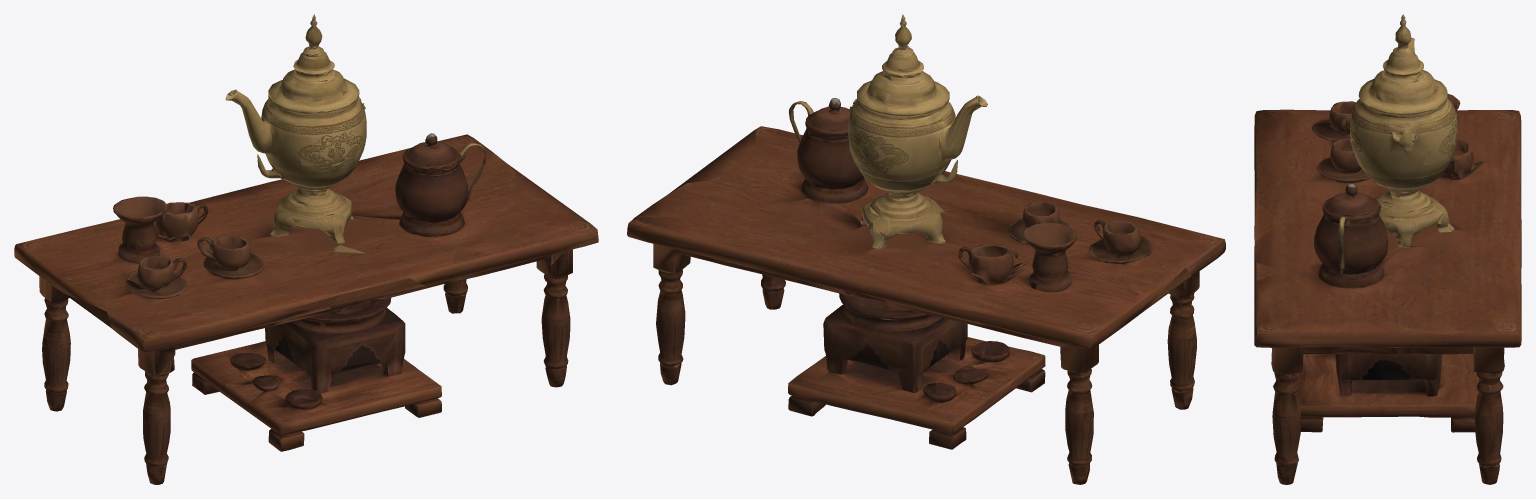
File: chai_stall.glb
The picture shows the model from 3 angles, left to right: view 1: azimuth 30°, elevation 25°; view 2: azimuth 150°, elevation 25°; view 3: azimuth 270°, elevation 25°; orthographic projection. The views are drawn at different scales.
Visible parts, largest first — view 1: chai_stall; view 2: chai_stall; view 3: chai_stall.
Boxes of the visible parts, box(x1,y1,x2,y2) form: chai_stall: box(14, 14, 598, 484); chai_stall: box(627, 14, 1225, 484); chai_stall: box(1254, 14, 1521, 484).
Size of the model in its own units: 1.8 by 1.44 by 0.91.
Materials: 1 (1 with a texture image).
